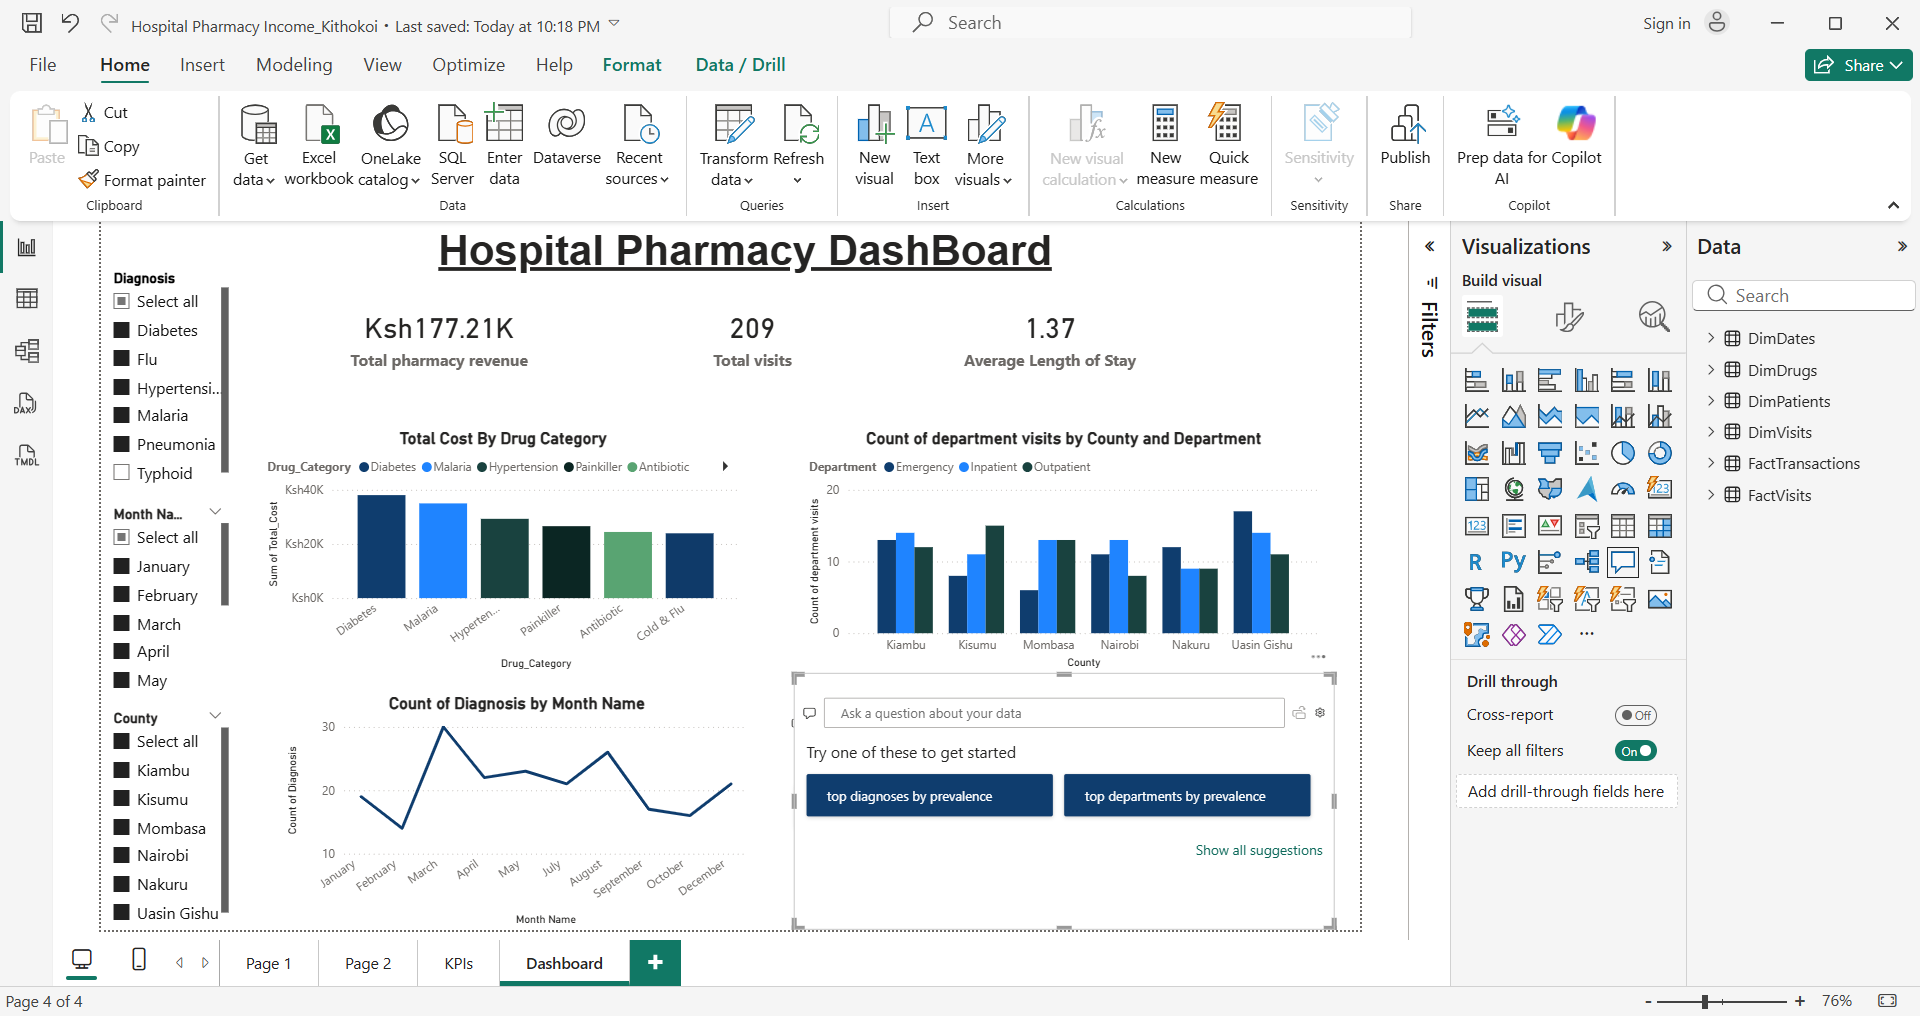

What the dashboard file says about the page in this screenshot:
{"tool":"powerbi","page":{"name":"Dashboard","canvas":[1280,720],"ordinal":3},"visuals":[{"type":"card","fields":{"Values":["DimDates.Total visits"]},"box":[536,76.8,251.5,80.7],"z":0},{"type":"card","fields":{"Values":["DimDates.Total pharmacy revenue"]},"box":[209.1,76.8,268.7,80.7],"z":1000},{"type":"card","fields":{"Values":["DimDates.Average Length of Stay"]},"box":[864.3,76.8,199.9,80.7],"z":2000},{"type":"columnChart","title":"Total Cost By Drug Category","fields":{"Y":["FactTransactions.Total_Cost"],"Category":["DimDrugs.Drug_Category"],"Series":["DimDrugs.Drug_Category"]},"box":[164.1,211.8,489.7,248.8],"z":3000},{"type":"clusteredColumnChart","fields":{"Category":["DimPatients.County","DimVisits.Department"],"Y":["DimDates.Count of department visits"],"Series":["DimVisits.Department"]},"box":[714.7,211.8,528.1,247.5],"z":4000},{"type":"slicer","fields":{"Values":["DimPatients.County"]},"box":[0,491,135,229],"z":5000},{"type":"slicer","fields":{"Values":["DimVisits.Diagnosis"]},"box":[0,43.7,135,229],"z":6000},{"type":"slicer","fields":{"Values":["DimDates.Month Name"]},"box":[0,283.2,135,207.8],"z":7000},{"type":"lineChart","fields":{"Category":["DimDates.Month Name"],"Y":["DimVisits.Diagnosis"]},"box":[184,480.4,477.8,239.6],"z":8000},{"type":"qnaVisual","box":[691.7,469.9,550.7,250],"z":9000},{"type":"textbox","box":[163.5,0,981.1,78.9],"z":10000},{"type":"qnaVisual","box":[704.1,459.3,550.6,260.7],"z":11000}]}

Visuals, with their boxes on the page's 1280x720 design canvas (x1, y1, x2, y2). These are canvas units, not pixel positions in the 1920x1016 screenshot, which may show the page scaled, cropped or inside an application window:
card - DimDates.Total visits: 536,77,788,158
card - DimDates.Total pharmacy revenue: 209,77,478,158
card - DimDates.Average Length of Stay: 864,77,1064,158
"Total Cost By Drug Category" columnChart: 164,212,654,461
clusteredColumnChart - DimPatients.County x DimVisits.Department: 715,212,1243,459
slicer - DimPatients.County: 0,491,135,720
slicer - DimVisits.Diagnosis: 0,44,135,273
slicer - DimDates.Month Name: 0,283,135,491
lineChart - DimDates.Month Name x DimVisits.Diagnosis: 184,480,662,720
qnaVisual: 692,470,1242,720
textbox: 164,0,1145,79
qnaVisual: 704,459,1255,720
